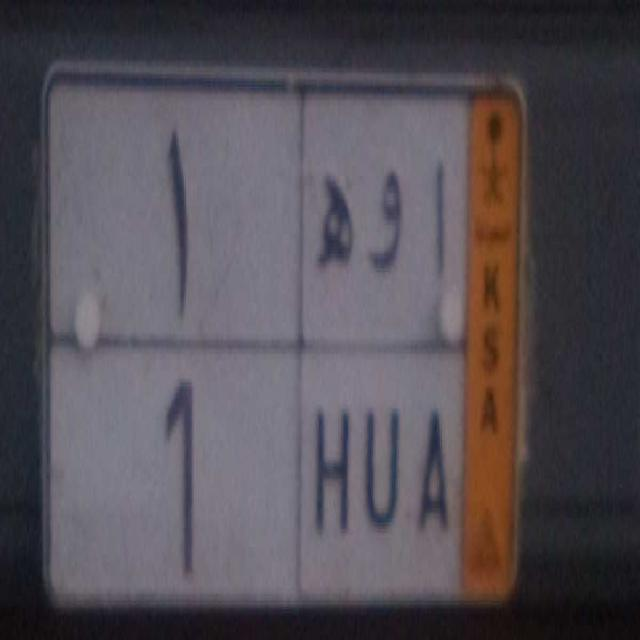license_plate: (44, 338, 468, 621)
